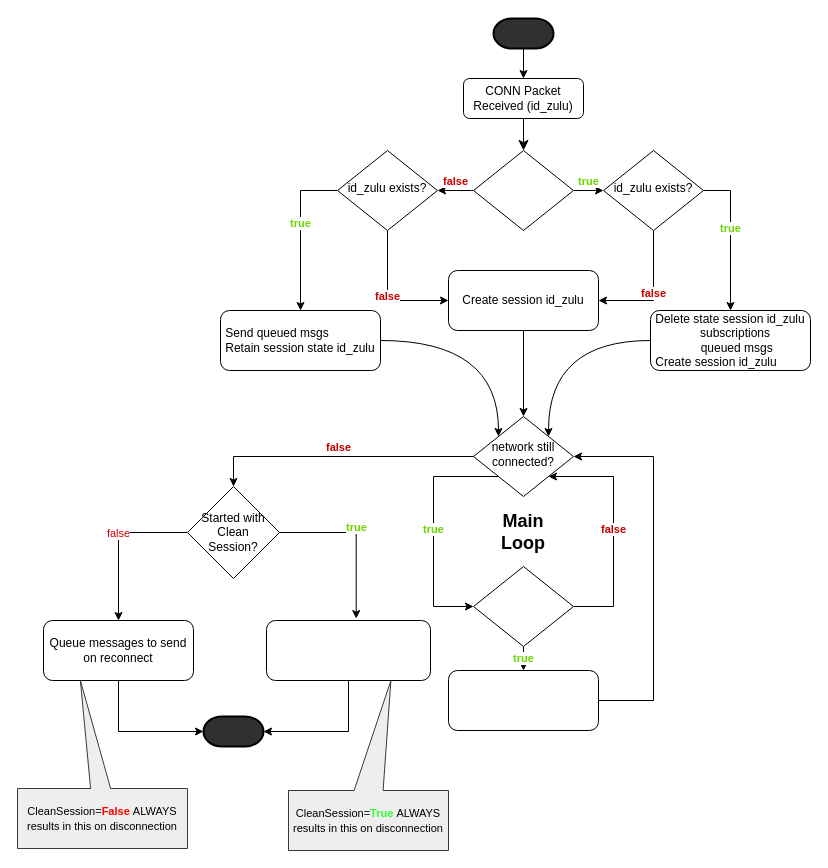
Image size: 828x868. Some labels were removed from this diagram. Here are the shapes that lost their labels. From the top down, the centre of each, then its label:
[523,33]: Start
[523,190]: Clean Session?
[523,606]: received message?
[348,650]: Delete state session id_zulu subscriptions queued msgs
[523,700]: Handle message
[233,731]: END
